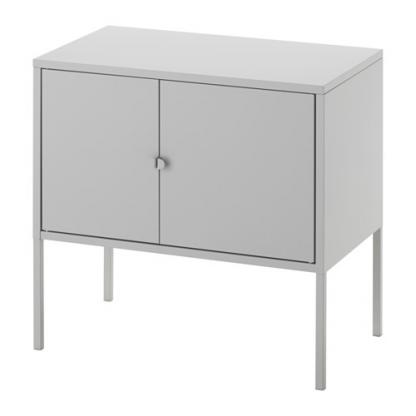Cabinet: (29, 20, 388, 392)
